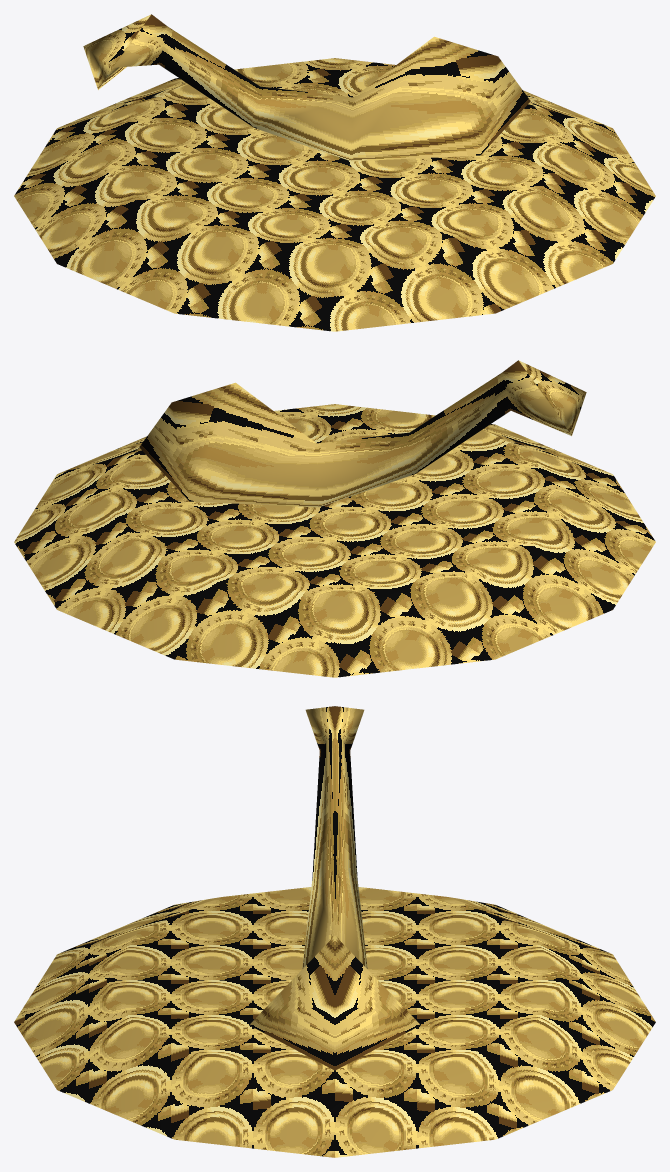
The model's file is 3506IMEL01_23.gltf.
3 renders of one model, top to bottom at view 1: azimuth 30°, elevation 25°; view 2: azimuth 150°, elevation 25°; view 3: azimuth 270°, elevation 25°, orthographic.
Parts seen in each view (by area): view 1: 3506IMEL01_23; view 2: 3506IMEL01_23; view 3: 3506IMEL01_23.
Boxes of the visible parts, <box> form: 3506IMEL01_23: <box>14,14,655,331</box>; 3506IMEL01_23: <box>14,360,655,677</box>; 3506IMEL01_23: <box>14,706,655,1157</box>.
Bounding box in the file's own units: 0.855 × 0.333 × 0.855.
Materials: 1 (1 with a texture image).
